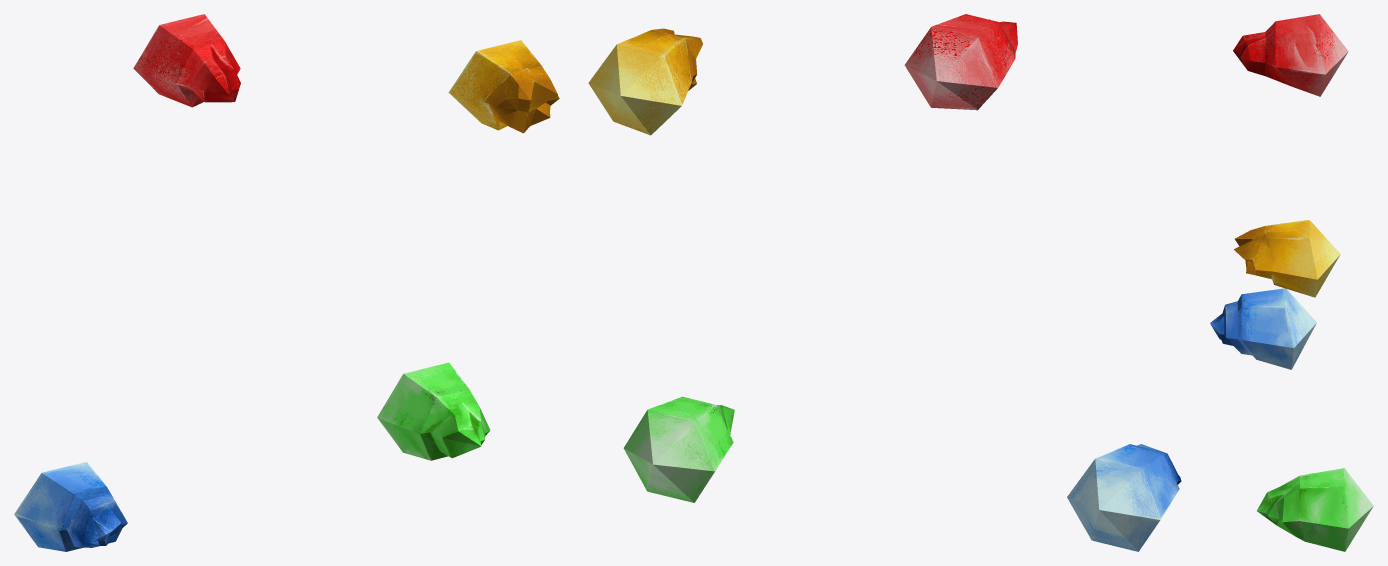
File: Crystal.fbx
The picture shows the model from 3 angles, left to right: view 1: azimuth 30°, elevation 25°; view 2: azimuth 150°, elevation 25°; view 3: azimuth 270°, elevation 25°; orthographic projection. The views are drawn at different scales.
Visible parts, largest first — view 1: Crystal_Green1, Crystal_Blue1, Crystal_Red1, Crystal_Gold1; view 2: Crystal_Blue1, Crystal_Green1, Crystal_Gold1, Crystal_Red1; view 3: Crystal_Green1, Crystal_Red1, Crystal_Blue1, Crystal_Gold1.
Part boxes in pixels (<box>): Crystal_Green1: <box>377,362,490,460</box>; Crystal_Blue1: <box>14,462,127,551</box>; Crystal_Red1: <box>133,14,240,107</box>; Crystal_Gold1: <box>448,40,559,133</box>; Crystal_Blue1: <box>1067,444,1181,551</box>; Crystal_Green1: <box>623,396,734,502</box>; Crystal_Gold1: <box>588,28,702,135</box>; Crystal_Red1: <box>904,14,1017,110</box>; Crystal_Green1: <box>1257,468,1373,551</box>; Crystal_Red1: <box>1233,14,1348,96</box>; Crystal_Blue1: <box>1210,288,1316,369</box>; Crystal_Gold1: <box>1234,219,1340,297</box>.
Bounding box in the file's own units: 302 × 268 × 95.93.
